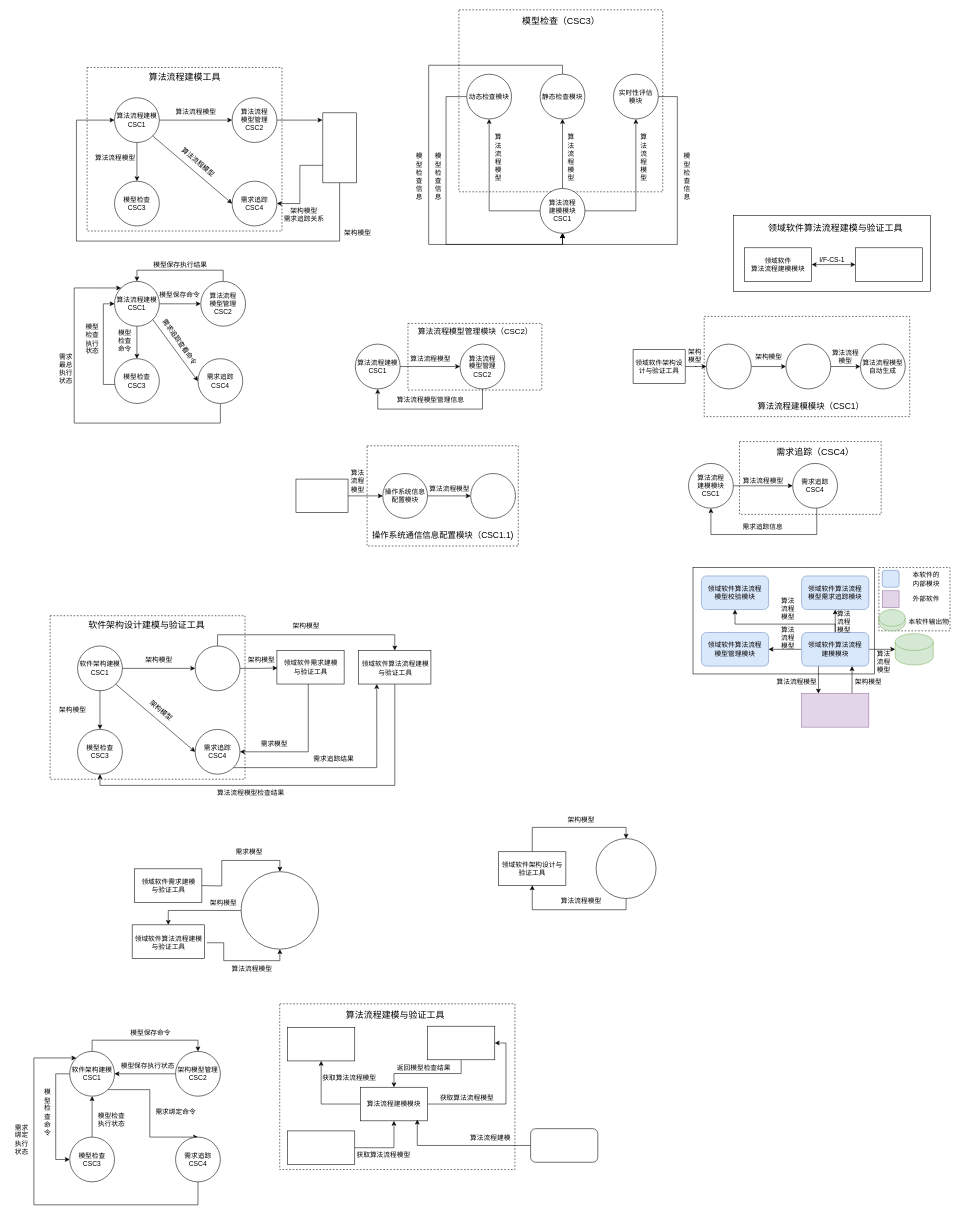
The diagram is 963 pixels wide and 1219 high, and some of its shapes have lost their labels. The shapes that lost their labels are listed below. From the top down, each one's centre as x and y in pixels, then its label:
the point at 339,147: 领域软件架构建模设计与验证工具
the point at 889,264: 操作系统通信信息 配置模块
the point at 728,366: 架构模型读取
the point at 808,366: 架构模型解析
the point at 321,496: 算法流程 建模模块 （CSC1）
the point at 492,495: 操作系统配置文件生成模块
the point at 217,668: 软件架构 模型管理 CSC2
the point at 914,649: 模型数据
the point at 835,710: 领域软件架构设计 建模与验证工具
the point at 626,868: 领域软件算法流程建模与验证
the point at 280,910: 软件架构建模与 验证工具
the point at 321,1044: 算法流程模型 管理模块
the point at 461,1043: 算法流程模型 检查模块
the point at 321,1147: 算法流程模型 中需求追踪模块
the point at 564,1145: 算法流程建模人员
